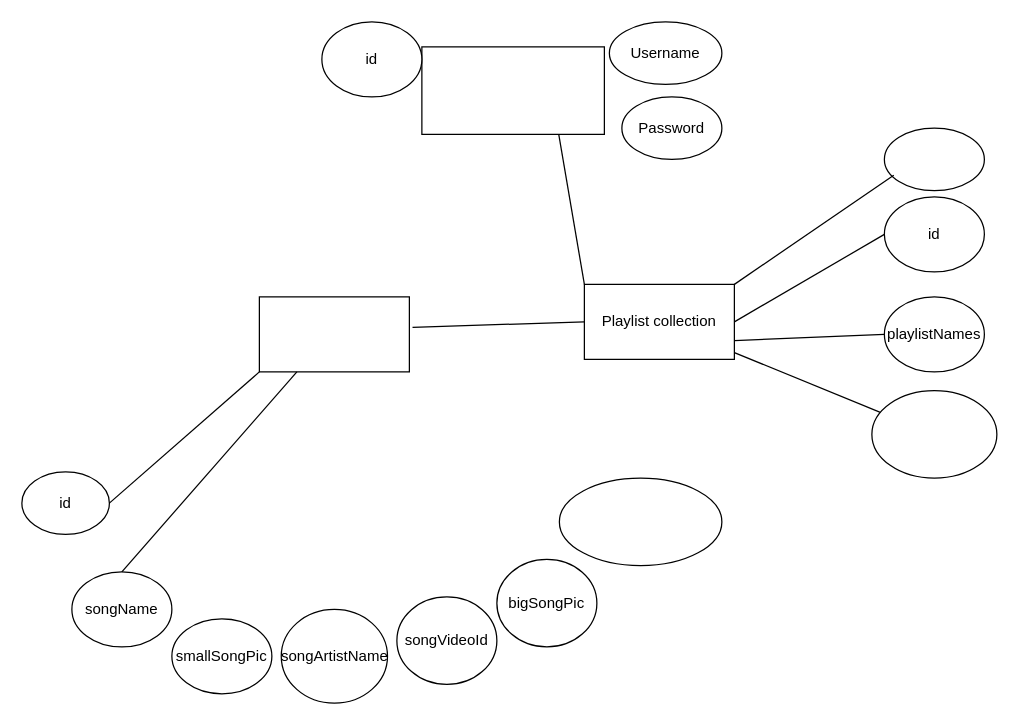
Some shapes in this 1019 by 725 pixel diagram are drawn without their labels. Each missing label, with the box of its shape:
Playlist: (258, 296, 409, 372)
playlistId: (871, 389, 997, 478)
songArtistBrowseId: (558, 477, 722, 566)
userId: (883, 127, 984, 191)
Users: (421, 46, 604, 134)
